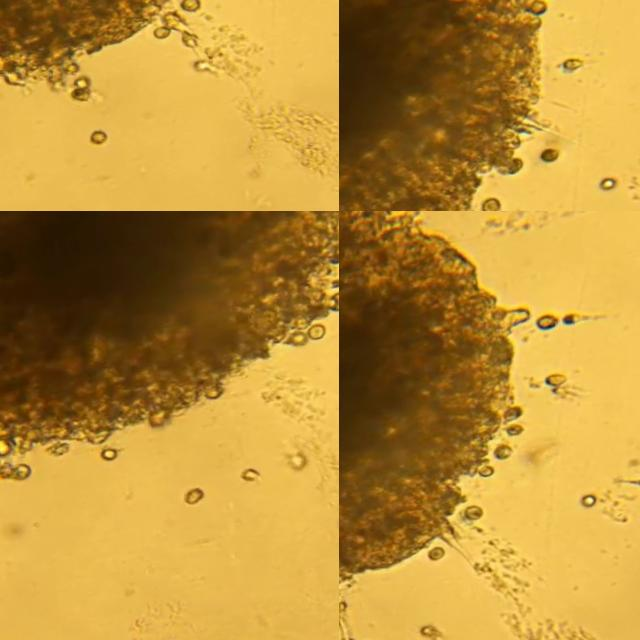cell: (162, 10, 195, 37), (190, 61, 225, 75), (339, 617, 356, 640), (563, 57, 585, 74), (87, 129, 108, 146), (422, 625, 445, 640), (537, 317, 557, 334), (72, 75, 94, 90), (241, 466, 262, 481), (180, 32, 199, 48), (496, 446, 513, 462), (101, 447, 119, 462), (562, 314, 582, 327), (466, 507, 484, 521), (548, 375, 567, 388), (504, 425, 524, 437), (541, 149, 558, 163), (183, 0, 201, 13), (597, 180, 615, 193), (152, 29, 171, 41), (482, 199, 501, 211), (186, 489, 201, 504), (431, 548, 446, 562), (73, 88, 90, 100), (581, 495, 597, 507)
tumor_mass: (339, 211, 529, 585), (339, 0, 559, 211)
